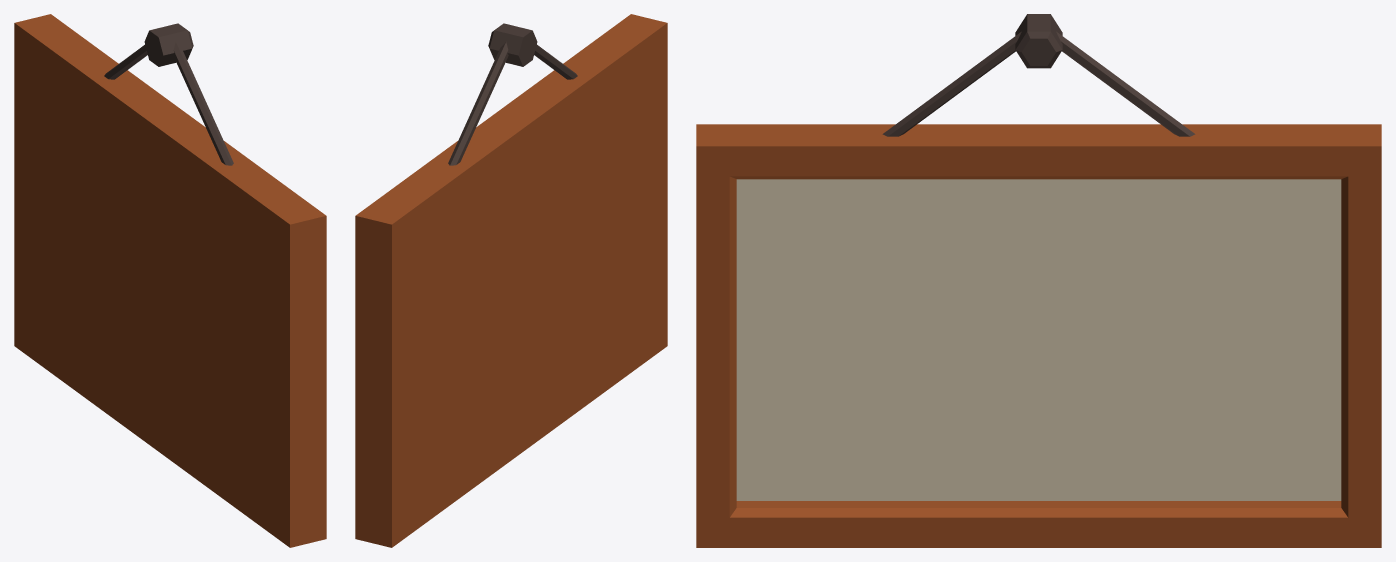
The model's file is mission board.fbx.
3 renders of one model, left to right at view 1: azimuth 30°, elevation 25°; view 2: azimuth 150°, elevation 25°; view 3: azimuth 270°, elevation 25°, orthographic. The views are drawn at different scales.
Visible parts, largest first — view 1: mission board; view 2: mission board; view 3: mission board.
Part boxes in pixels (x1,y1,x2,y2): mission board: (14,14,326,547); mission board: (355,14,667,547); mission board: (696,14,1381,547).
Bounding box in the file's own units: 12.61 × 137 × 165.
